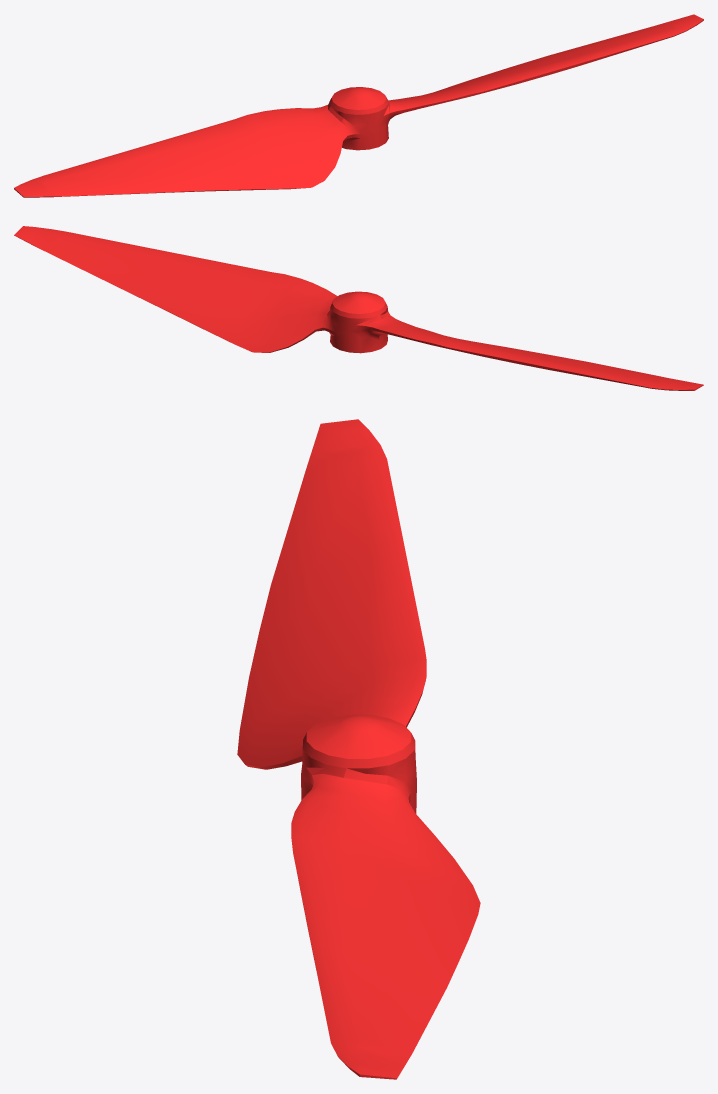
The model's file is propeller_rl.dae.
3 renders of one model, top to bottom at view 1: azimuth 30°, elevation 25°; view 2: azimuth 150°, elevation 25°; view 3: azimuth 270°, elevation 25°, orthographic. The views are drawn at different scales.
Parts seen in each view (by area): view 1: Aile_AR_G; view 2: Aile_AR_G; view 3: Aile_AR_G.
Boxes of the visible parts, x1,y1,x2,y2 form: Aile_AR_G: (14, 14, 703, 197); Aile_AR_G: (14, 226, 703, 390); Aile_AR_G: (237, 419, 480, 1079).
Bounding box in the file's own units: 0.2792 × 0.0438 × 0.0217.
